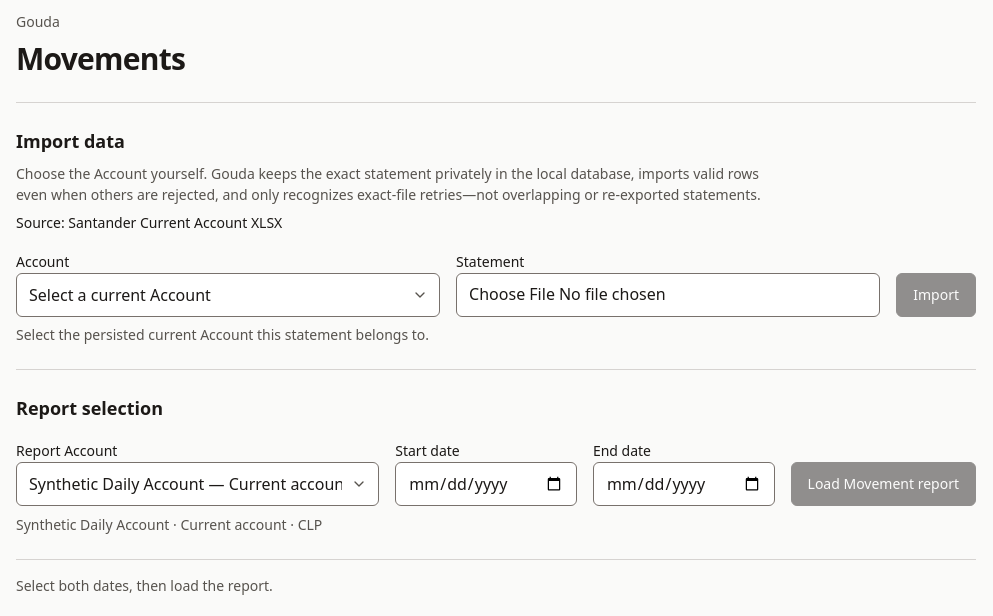
Test: Gouda read-only report flow › renders the safe 503 local_delivery_not_active API error
The image size is (993, 616).
Expected: the dropdown labelled "Report Account" is shown, [16, 462, 379, 506]
In the date field labelled "Start date": {"x": 486, "y": 484} [395, 462, 577, 506], type "2026-05-01"
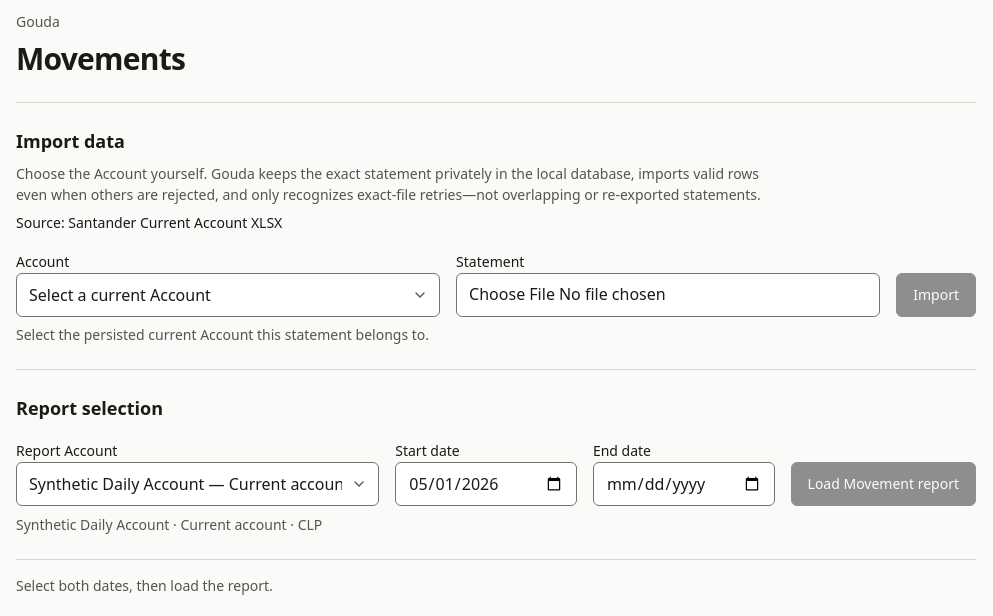
In the date field labelled "End date": {"x": 684, "y": 484} [593, 462, 774, 506], type "2026-04-30"
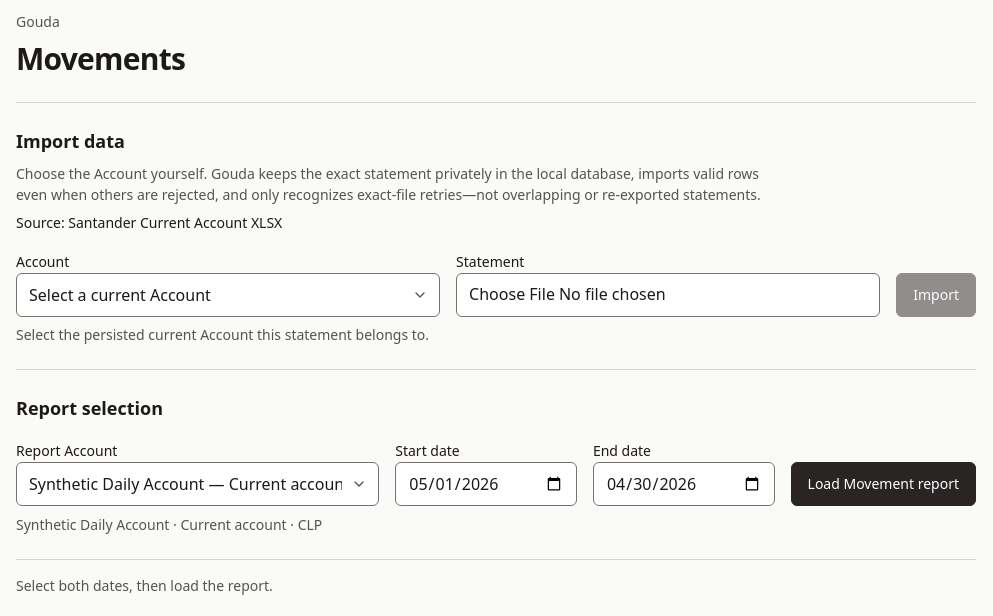
Click the button "Load Movement report": {"x": 883, "y": 484} [790, 462, 976, 506]
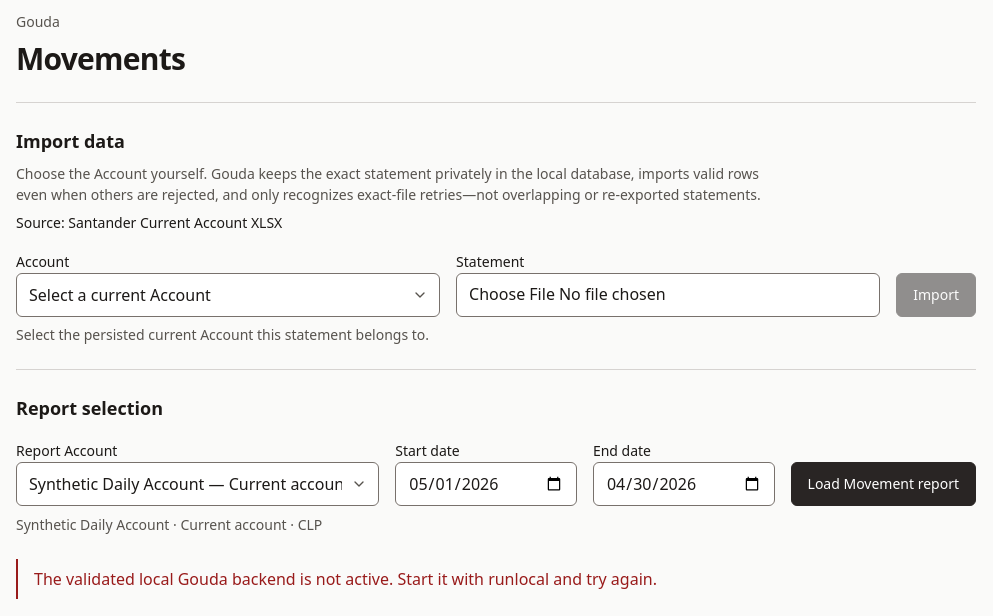
Now the text "The validated local Gouda backend is not active. Start it with runlocal and try again." is shown, box [34, 568, 657, 590]
